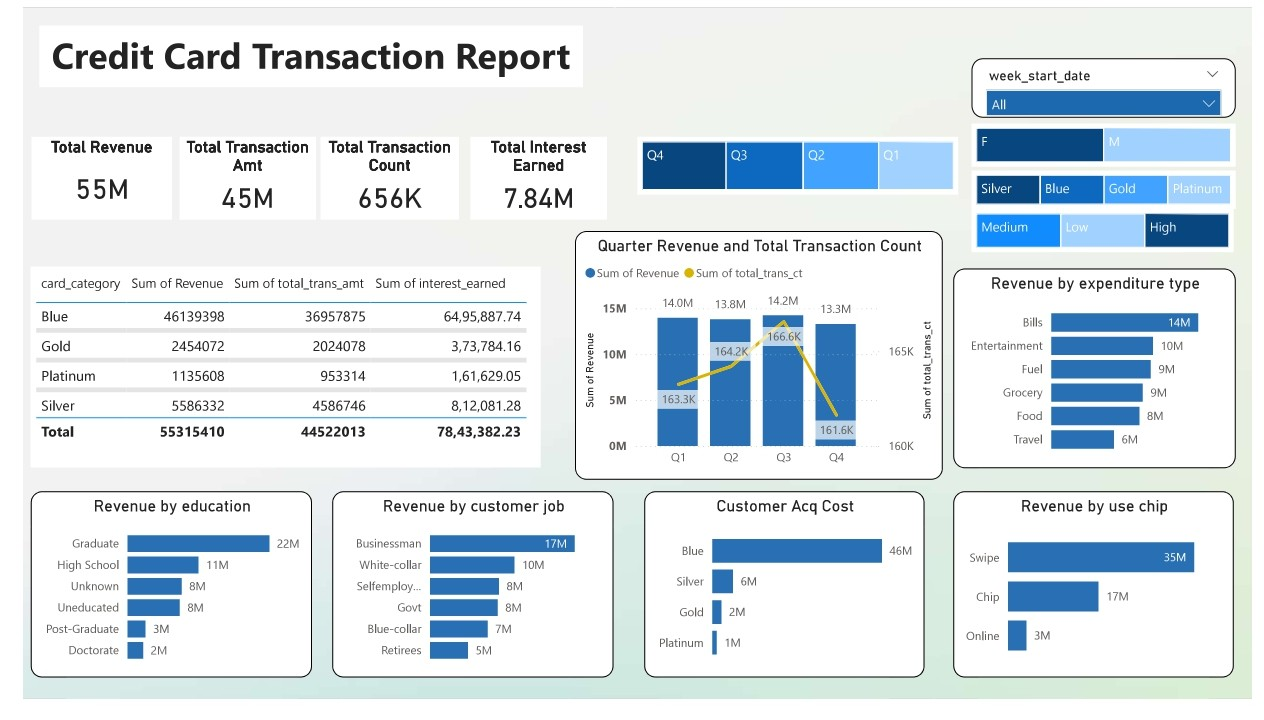

Layout of this report page (visuals, bound fields, positions):
{"tool":"powerbi","page":{"name":"Page 2","canvas":[1280,720],"ordinal":1},"visuals":[{"type":"textbox","box":[16.9,19.3,565.8,63.9],"z":0},{"type":"lineStackedColumnComboChart","title":"Quarter Revenue and Total Transaction Count","fields":{"Category":["public cc_detail.qtr"],"Y":["Sum(public cc_detail.Revenue)"],"Y2":["Sum(public cc_detail.total_trans_ct)"]},"box":[575.4,233.1,382.7,258.8],"z":1000},{"type":"barChart","title":" Revenue by expenditure type","fields":{"Y":["Sum(public cc_detail.Revenue)"],"Category":["public cc_detail.exp_type"]},"box":[969,272.2,293.8,207.5],"z":2000},{"type":"barChart","title":" Revenue by education ","fields":{"Y":["Sum(public cc_detail.Revenue)"],"Category":["public cust_detail.education_level"]},"box":[8.1,504,292.4,194.1],"z":3000},{"type":"barChart","title":" Revenue by customer job","fields":{"Y":["Sum(public cc_detail.Revenue)"],"Category":["public cust_detail.customer_job"]},"box":[322.1,504,292.4,194.1],"z":4000},{"type":"barChart","title":" Customer Acq Cost","fields":{"Y":["Sum(public cc_detail.Revenue)"],"Category":["public cc_detail.card_category"]},"box":[646.9,504,292.4,194.1],"z":5000},{"type":"barChart","title":" Revenue by use chip","fields":{"Y":["Sum(public cc_detail.Revenue)"],"Category":["public cc_detail.use_chip"]},"box":[969,504,292.4,194.1],"z":6000},{"type":"tableEx","fields":{"Values":["public cc_detail.card_category","Sum(public cc_detail.Revenue)","Sum(public cc_detail.total_trans_amt)","Sum(public cc_detail.interest_earned)"]},"box":[8.2,270.3,531,208.6],"z":7000},{"type":"card","title":" Total Revenue","fields":{"Values":["Sum(public cc_detail.Revenue)"]},"box":[9.4,134.8,145.5,86.3],"z":8000},{"type":"card","title":"Total Transaction Count","fields":{"Values":["Sum(public cc_detail.total_trans_ct)"]},"box":[310,134.8,144.2,86.3],"z":9000},{"type":"card","title":"Total Interest Earned","fields":{"Values":["Sum(public cc_detail.interest_earned)"]},"box":[466.3,134.8,141.5,86.3],"z":10000},{"type":"card","title":"Total Transaction Amt ","fields":{"Values":["Sum(public cc_detail.total_trans_amt)"]},"box":[163.1,134.8,141.5,86.3],"z":11000},{"type":"slicer","fields":{"Values":["public cc_detail.week_start_date"]},"box":[987.8,52.6,274.9,62],"z":12000},{"type":"treemap","fields":{"Group":["public cc_detail.qtr"],"Values":["Avg(public cust_detail.client_num)"]},"box":[640.1,134.8,334.2,60.6],"z":13000},{"type":"treemap","fields":{"Group":["public cust_detail.gender"],"Values":["Avg(public cust_detail.client_num)"]},"box":[987.8,121.3,274.9,44.5],"z":14000},{"type":"treemap","fields":{"Group":["public cc_detail.card_category"],"Values":["Avg(public cust_detail.client_num)"]},"box":[987.8,169.8,274.9,40.4],"z":15000},{"type":"treemap","fields":{"Values":["Avg(public cust_detail.client_num)"],"Group":["public cust_detail.IncomeGroup"]},"box":[987.8,210.2,273.6,44.5],"z":16000}]}

Visuals, with their boxes in screenshot pixels (x1, y1, x2, y2), scaled from the page's 1280x720 canvas onto the 1264x720 screenshot:
textbox: (x1=17, y1=19, x2=575, y2=83)
"Quarter Revenue and Total Transaction Count" lineStackedColumnComboChart: (x1=568, y1=233, x2=946, y2=492)
" Revenue by expenditure type" barChart: (x1=957, y1=272, x2=1247, y2=480)
" Revenue by education " barChart: (x1=8, y1=504, x2=297, y2=698)
" Revenue by customer job" barChart: (x1=318, y1=504, x2=607, y2=698)
" Customer Acq Cost" barChart: (x1=639, y1=504, x2=928, y2=698)
" Revenue by use chip" barChart: (x1=957, y1=504, x2=1246, y2=698)
tableEx - public cc_detail.card_category x Sum(public cc_detail.Revenue): (x1=8, y1=270, x2=532, y2=479)
" Total Revenue" card: (x1=9, y1=135, x2=153, y2=221)
"Total Transaction Count" card: (x1=306, y1=135, x2=449, y2=221)
"Total Interest Earned" card: (x1=460, y1=135, x2=600, y2=221)
"Total Transaction Amt " card: (x1=161, y1=135, x2=301, y2=221)
slicer - public cc_detail.week_start_date: (x1=975, y1=53, x2=1247, y2=115)
treemap - public cc_detail.qtr x Avg(public cust_detail.client_num): (x1=632, y1=135, x2=962, y2=195)
treemap - public cust_detail.gender x Avg(public cust_detail.client_num): (x1=975, y1=121, x2=1247, y2=166)
treemap - public cc_detail.card_category x Avg(public cust_detail.client_num): (x1=975, y1=170, x2=1247, y2=210)
treemap - Avg(public cust_detail.client_num) x public cust_detail.IncomeGroup: (x1=975, y1=210, x2=1246, y2=255)
